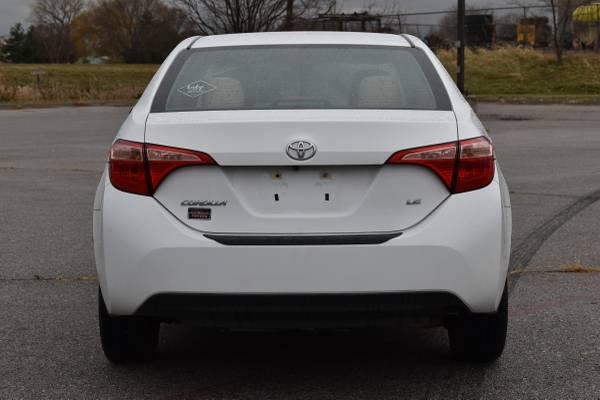Left_Taillight: (107, 137, 220, 199)
Rear_Bumper: (93, 170, 509, 328)
Rear_Windshield: (142, 44, 462, 114)
Right_Taillight: (381, 138, 493, 196)
Roof: (176, 31, 425, 53)
Tailgate: (115, 110, 486, 233)
